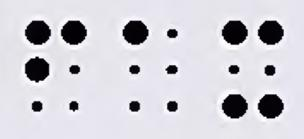letter_a: (122, 19, 180, 112)
letter_f: (24, 21, 86, 113)
letter_x: (224, 19, 284, 119)
